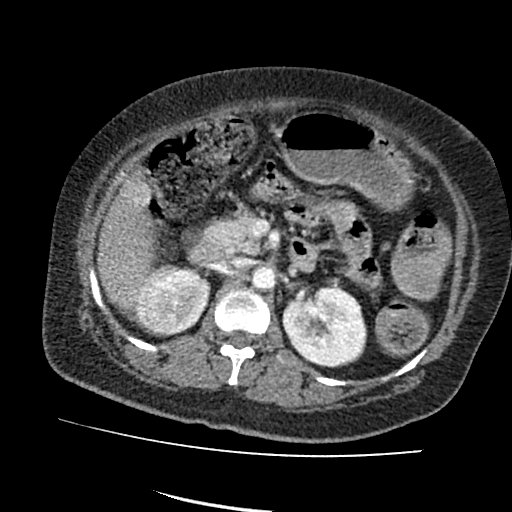aorta: (251, 265, 277, 291)
